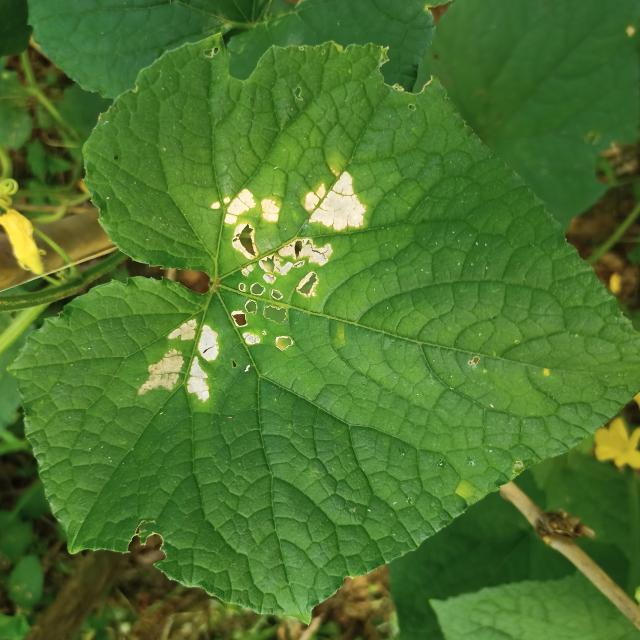disease_cucumber: (204, 165, 378, 360), (136, 317, 231, 411)
